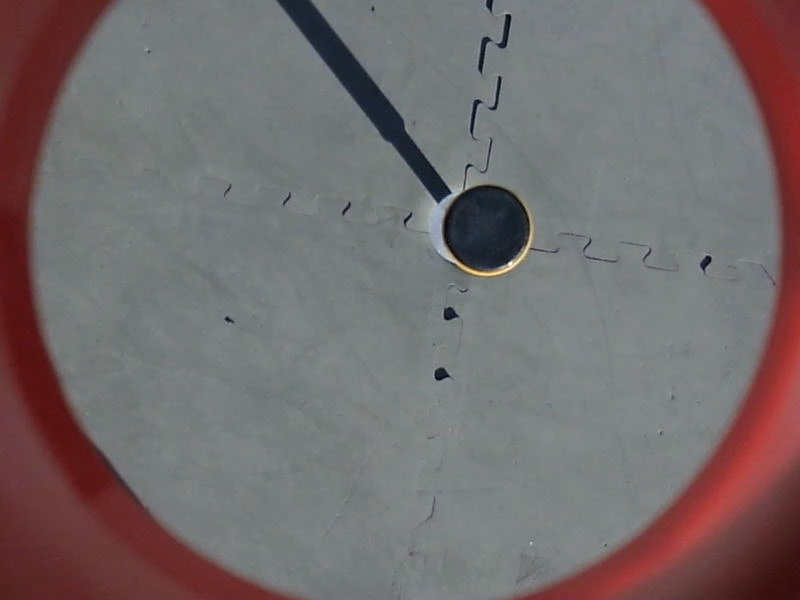tip: (439, 177, 537, 280)
